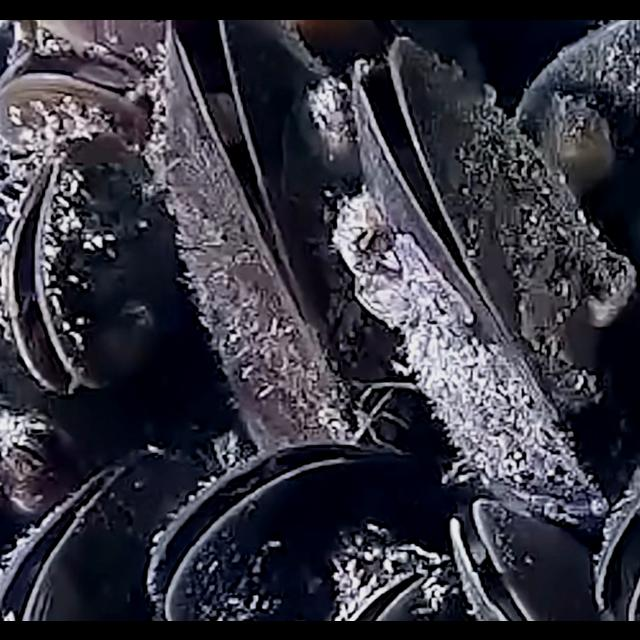Oyster-Closed: (518, 19, 640, 258)
Oyster-Open: (336, 34, 640, 524), (150, 21, 414, 457), (148, 438, 422, 620), (5, 135, 173, 397), (0, 446, 216, 620), (0, 38, 164, 184), (454, 496, 608, 620), (590, 462, 640, 620), (344, 558, 440, 620)
